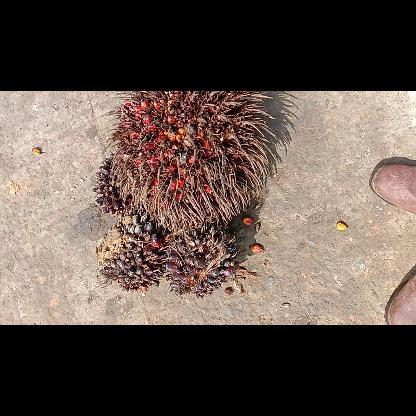TBS abnormal: (94, 209, 166, 292), (164, 226, 240, 300), (92, 154, 136, 218)
Terlalu masak: (105, 90, 279, 233)
